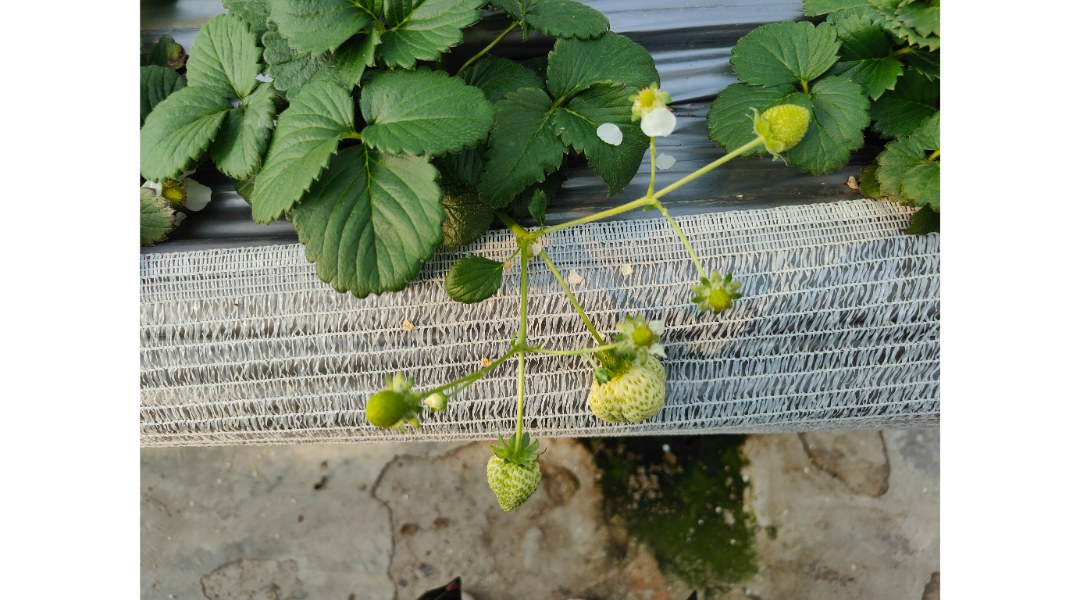berry: (591, 353, 665, 426), (484, 433, 540, 521), (744, 103, 820, 151), (357, 378, 410, 446), (693, 261, 739, 318)
flower: (631, 83, 683, 141)
strain: (547, 196, 640, 247), (674, 141, 752, 200), (545, 266, 595, 330), (512, 251, 526, 433), (661, 210, 698, 256), (645, 144, 661, 186)
